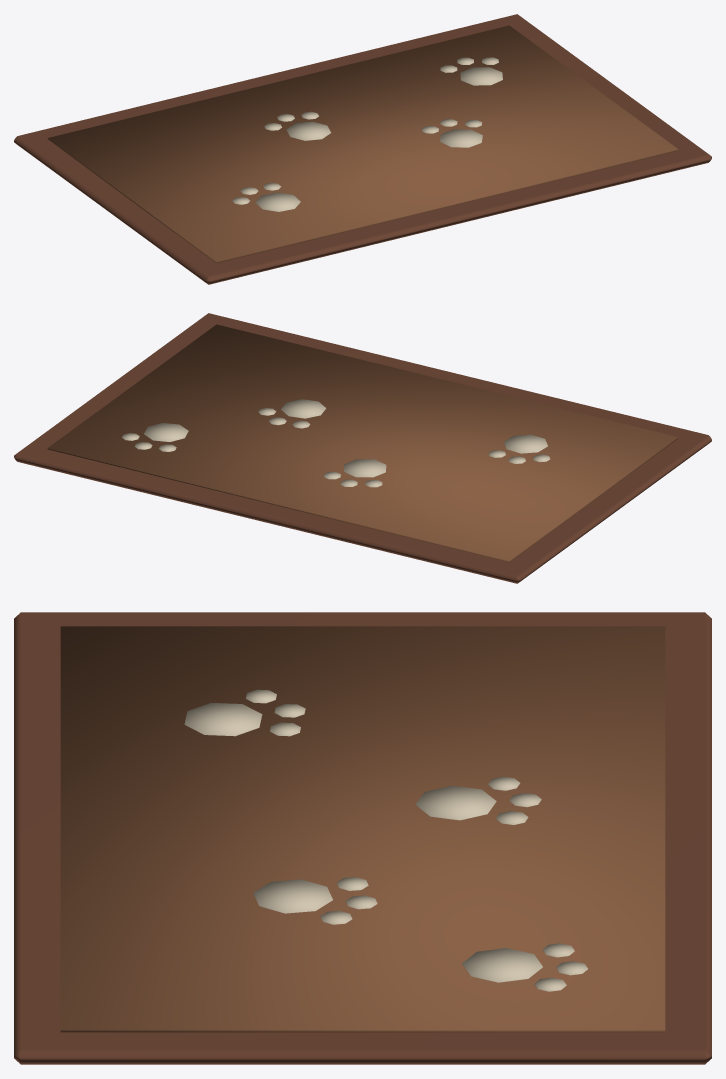
Rendered from floor_mat.glb.
3 views of the same model, one above another, from view 1: azimuth 30°, elevation 25°; view 2: azimuth 150°, elevation 25°; view 3: azimuth 270°, elevation 25° (orthographic). The views are drawn at different scales.
Visible parts, largest first — view 1: floor_mat; view 2: floor_mat; view 3: floor_mat.
Part boxes in pixels (x1=…): floor_mat: x1=14, y1=14, x2=711, y2=284; floor_mat: x1=14, y1=313, x2=711, y2=583; floor_mat: x1=14, y1=612, x2=711, y2=1064.
Bounding box in the file's own units: 0.9 × 0.018 × 0.6.
